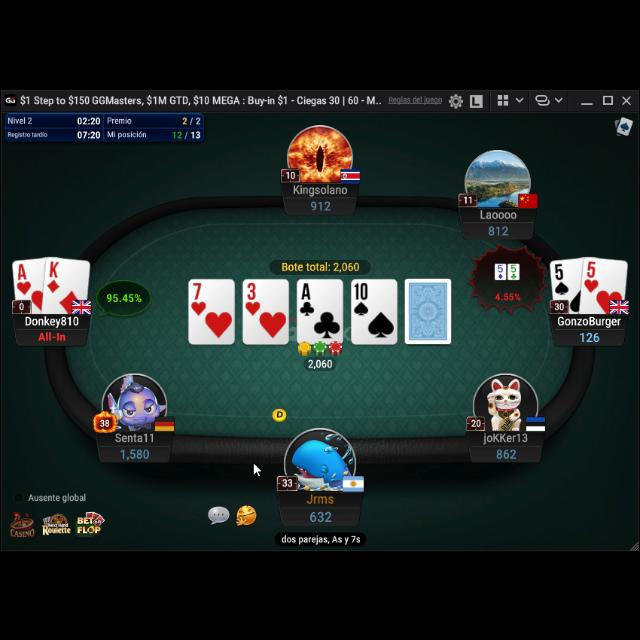3h: (245, 282, 261, 316)
5h: (584, 260, 600, 294)
5s: (554, 261, 570, 295)
7h: (191, 280, 207, 316)
Ac: (298, 281, 314, 315)
Ts: (354, 282, 370, 314)
all_in_symbol: (36, 328, 68, 342)
bet_text: (307, 358, 333, 368)
card_back: (405, 276, 451, 344)
dealer: (272, 404, 288, 422)
pot_text: (281, 259, 361, 271)
stack_text: (119, 445, 151, 459), (308, 507, 332, 523), (578, 328, 602, 342), (488, 222, 510, 236), (310, 196, 332, 210), (495, 444, 517, 458)
